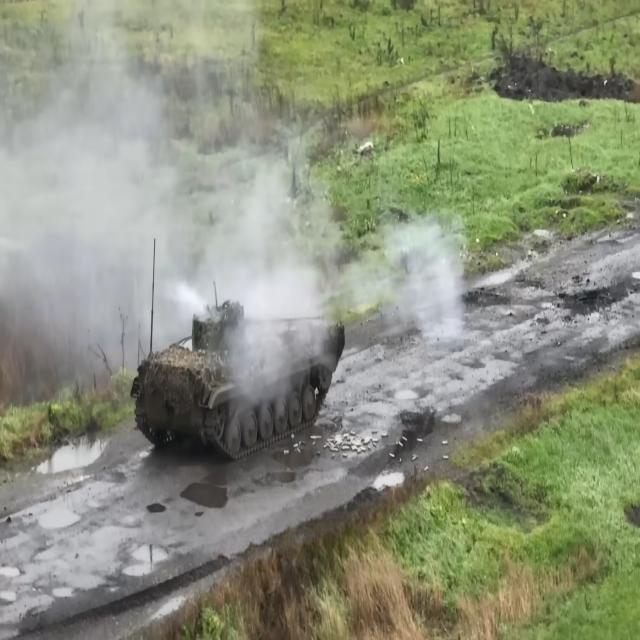AIFV: (128, 299, 349, 467)
